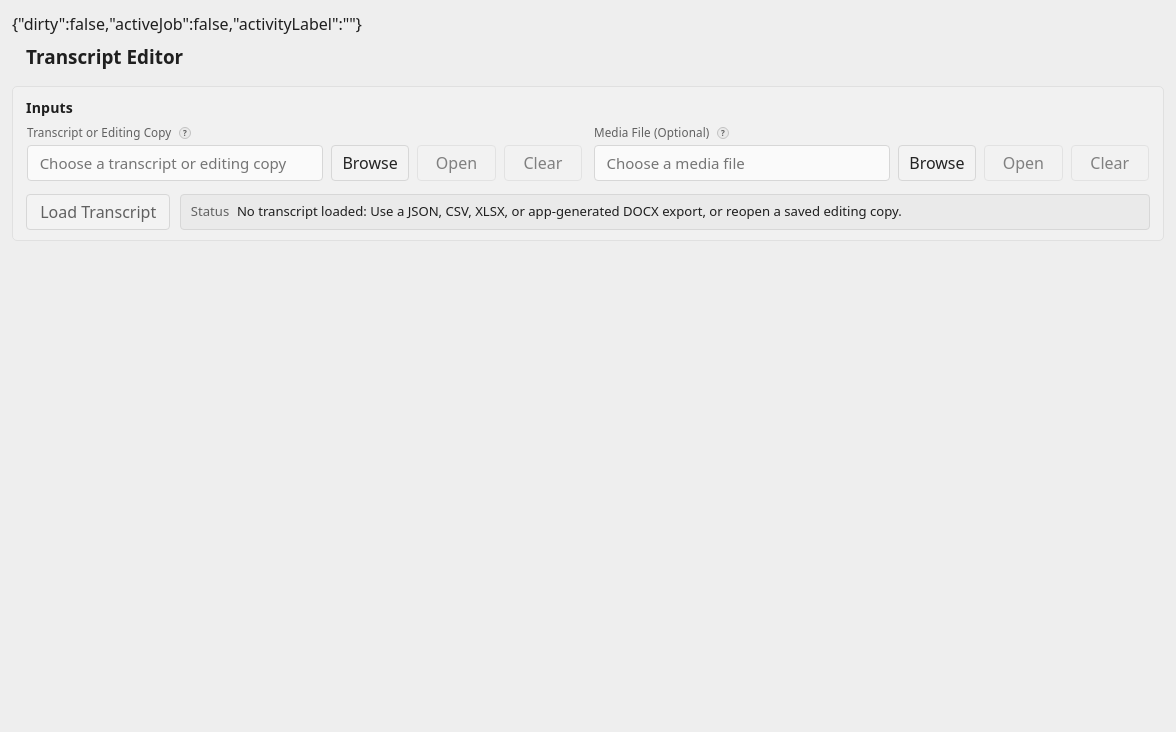
TranscriptEditorPage document workflow › deletes a segment as one undoable change and protects the final segment
Click the button "Browse" below "Transcript or Editing Copy": (370, 163) 331,145 -> 409,181
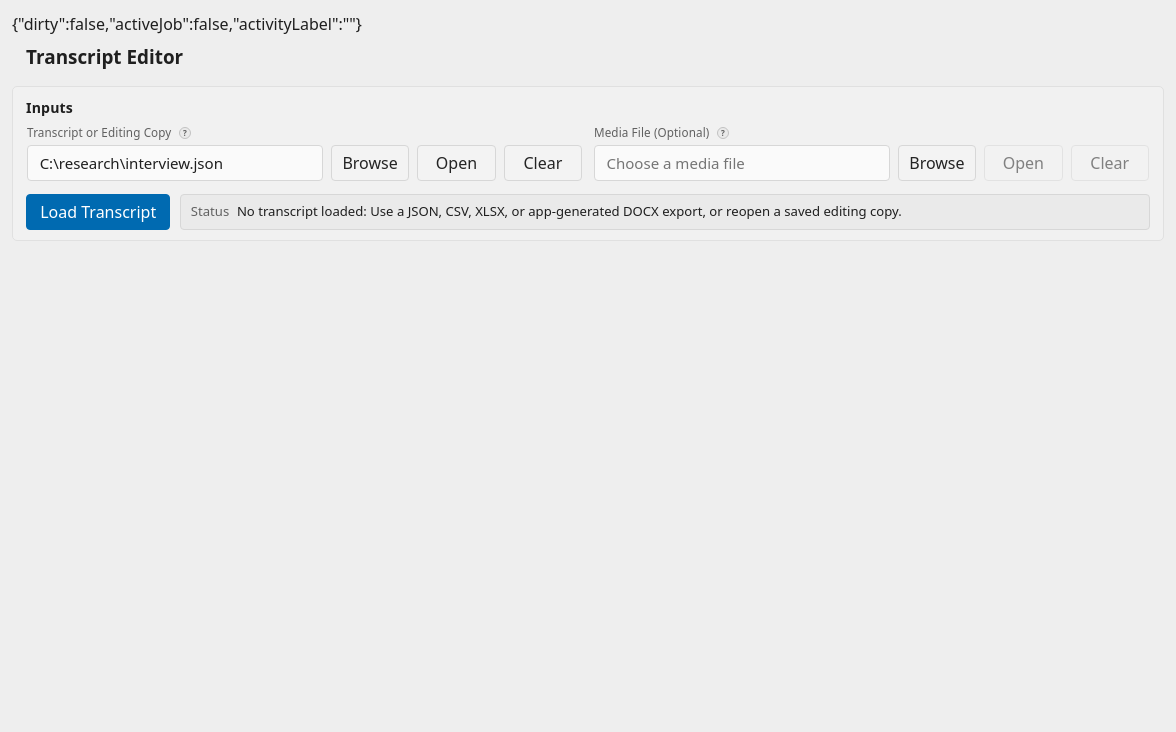
Click the button "Load Transcript": (98, 212) 26,194 -> 170,230
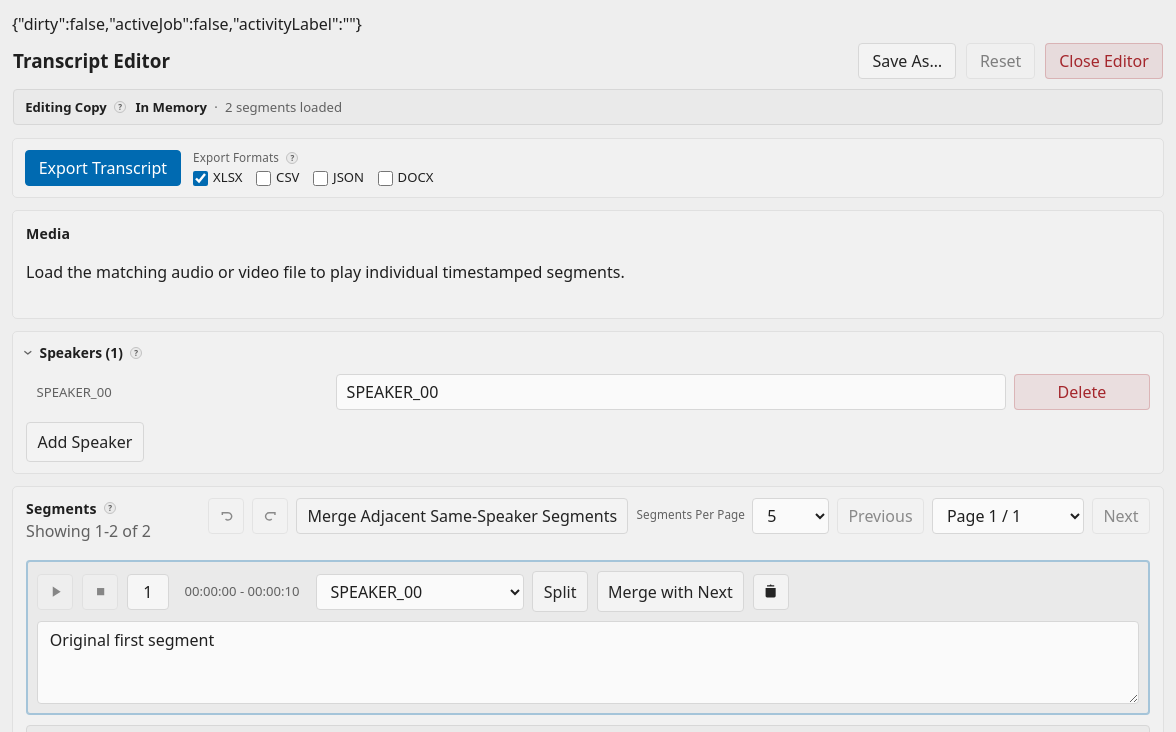
Result: the button "Save As…" is shown at 858,43 -> 956,79
Result: the number of buttons named "Delete Segment" is 2
Click the button named "Delete Segment": (771, 592) 753,574 -> 789,610
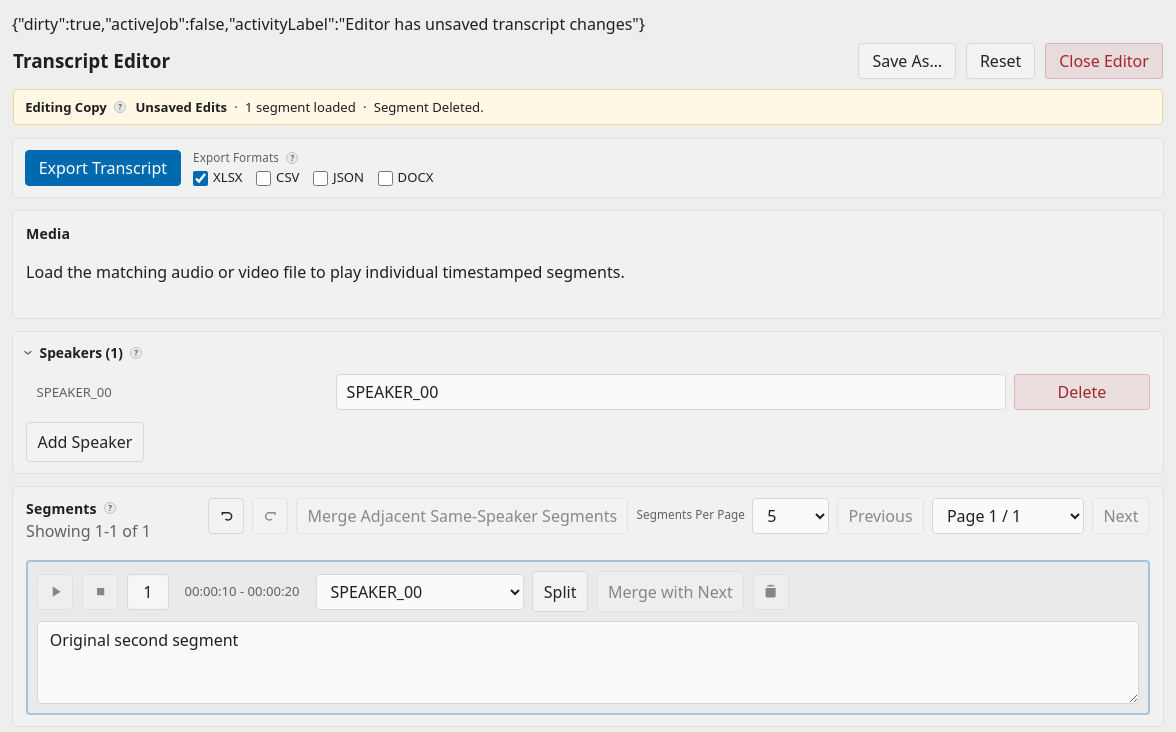
Result: the text "Unsaved Edits" is shown at 135,99 -> 227,115
Result: the message shows "Segment Deleted." at 374,98 -> 484,116
Result: the button named "Delete Segment" is disabled at 753,574 -> 789,610
Click the button named "Undo": (226, 516) 208,498 -> 244,534
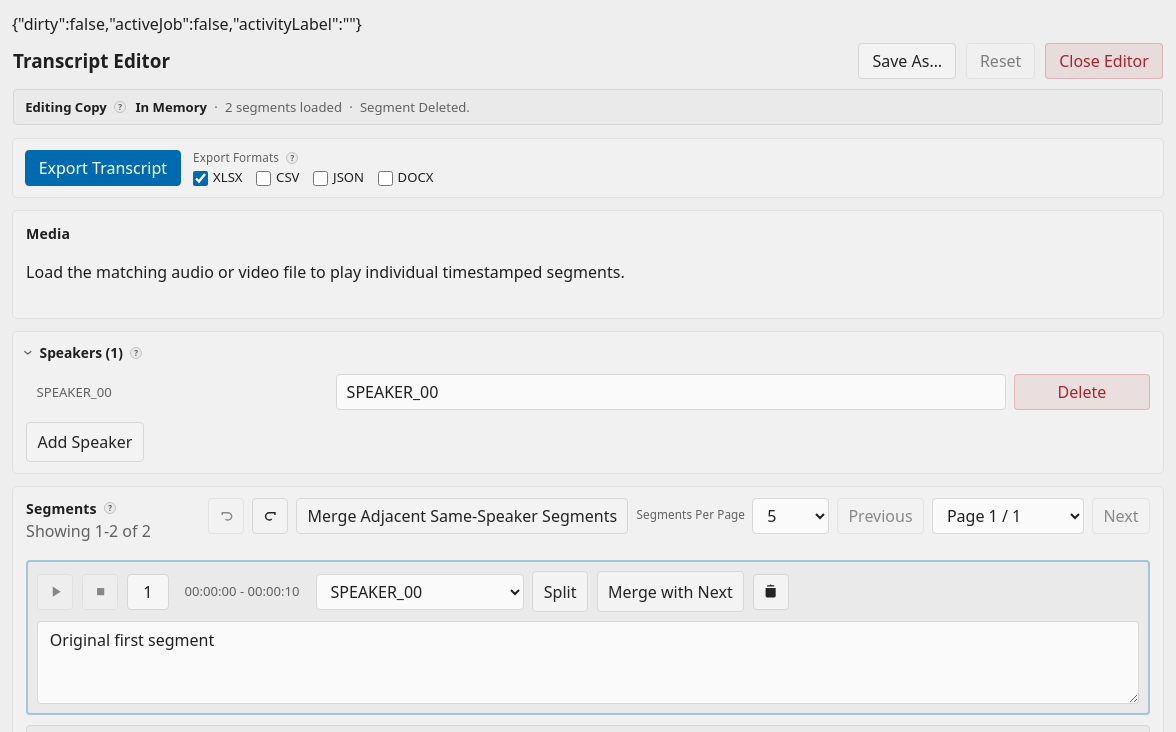
Result: the text box showing "Original first segment" is shown at 37,621 -> 1139,704
Result: the number of buttons named "Delete Segment" is 2
Click the button named "Redo": (270, 516) 252,498 -> 288,534
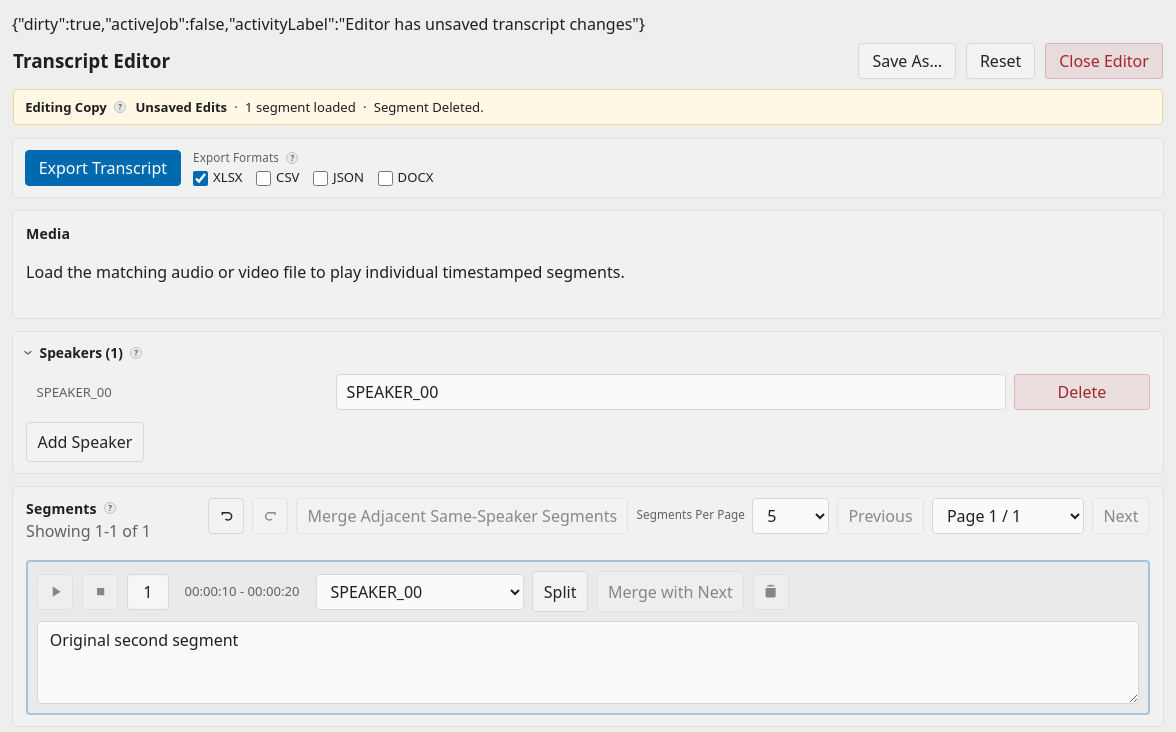
Expected: the field showing "Original first segment" is not shown
Result: the button named "Delete Segment" is disabled at 753,574 -> 789,610
